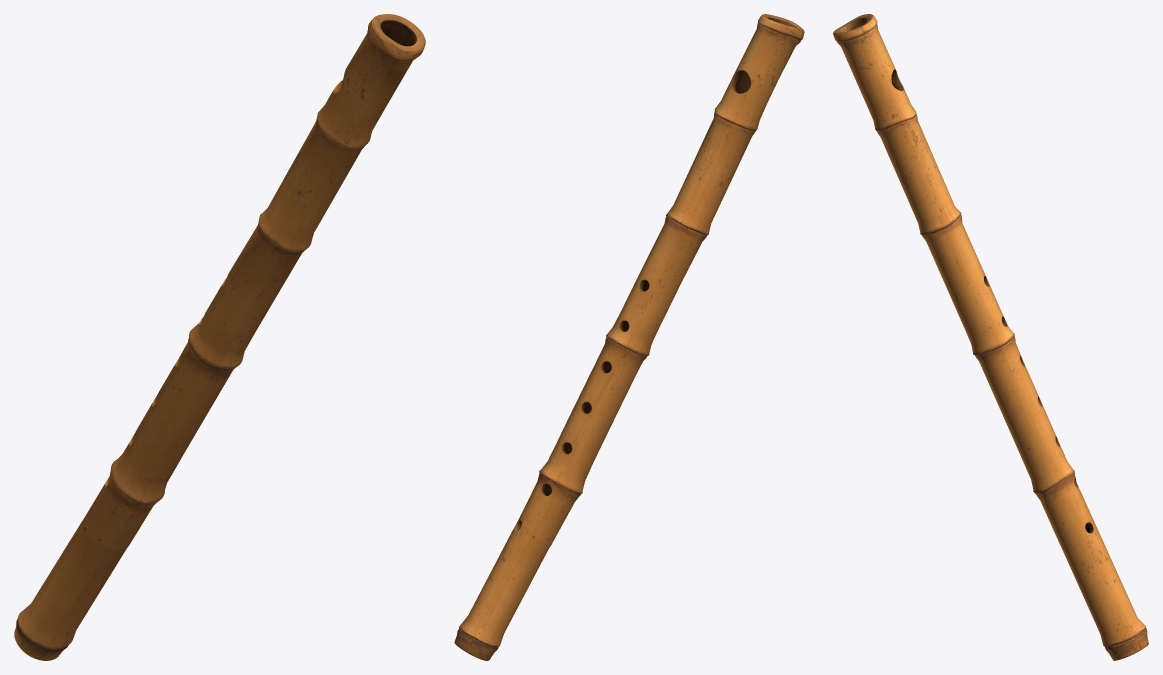
File: TangFlute.fbx
3 views of the same model, side by side, from view 1: azimuth 90°, elevation 25°; view 2: azimuth 150°, elevation 25°; view 3: azimuth 270°, elevation 25° (orthographic). The views are drawn at different scales.
Parts seen in each view (by area): view 1: Flute body; view 2: Flute body; view 3: Flute body.
Part boxes in pixels (bbox=[...]): Flute body: bbox=[14, 14, 425, 660]; Flute body: bbox=[454, 14, 804, 660]; Flute body: bbox=[833, 14, 1148, 660].
Size of the model in its own units: 14.99 by 40.88 by 20.69.
1 material, 1 textured.
